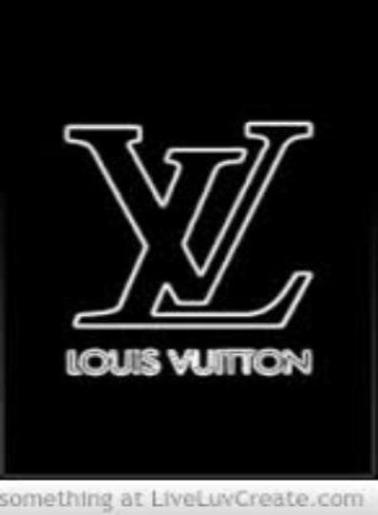LOUIS-VUITTON: (55, 106, 315, 333), (60, 344, 319, 387)
